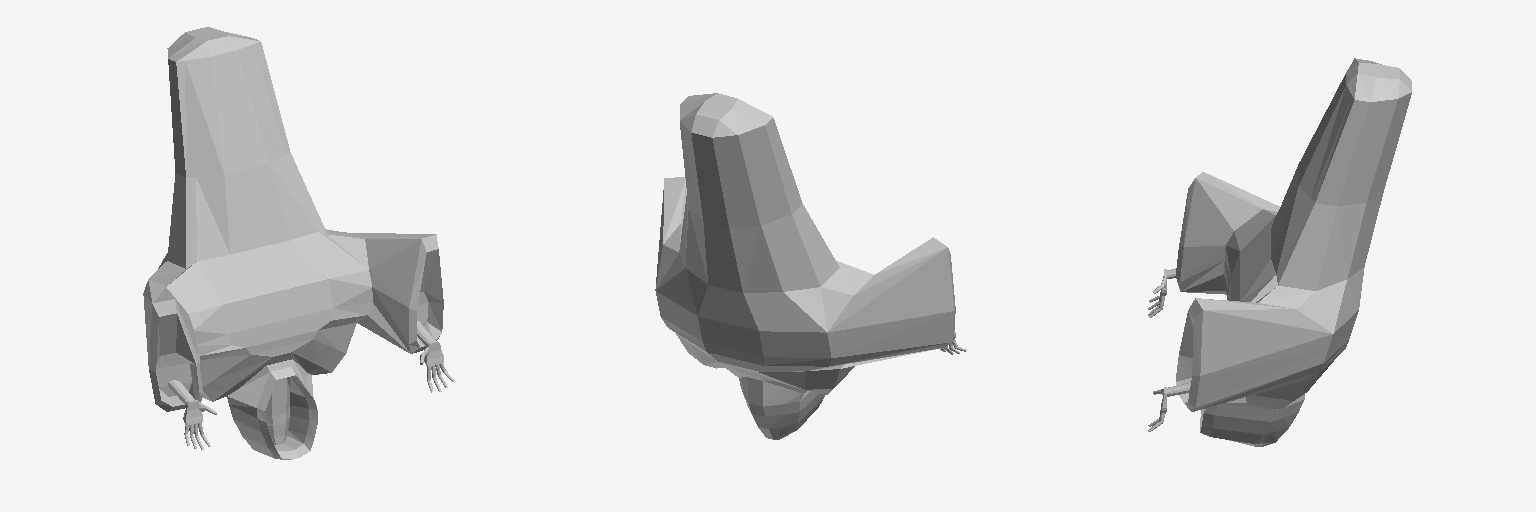
File: ghost.obj
3 renders of one model, left to right at view 1: azimuth 30°, elevation 25°; view 2: azimuth 150°, elevation 25°; view 3: azimuth 270°, elevation 25°, orthographic.
Visible parts, largest first — view 1: polySurface26_lambert2_0; view 2: polySurface26_lambert2_0; view 3: polySurface26_lambert2_0.
Part boxes in pixels (x1,y1,x2,y2): polySurface26_lambert2_0: (143,27,453,459); polySurface26_lambert2_0: (655,93,966,439); polySurface26_lambert2_0: (1148,58,1411,446).
Size of the model in its own units: 105 by 129 by 82.11.